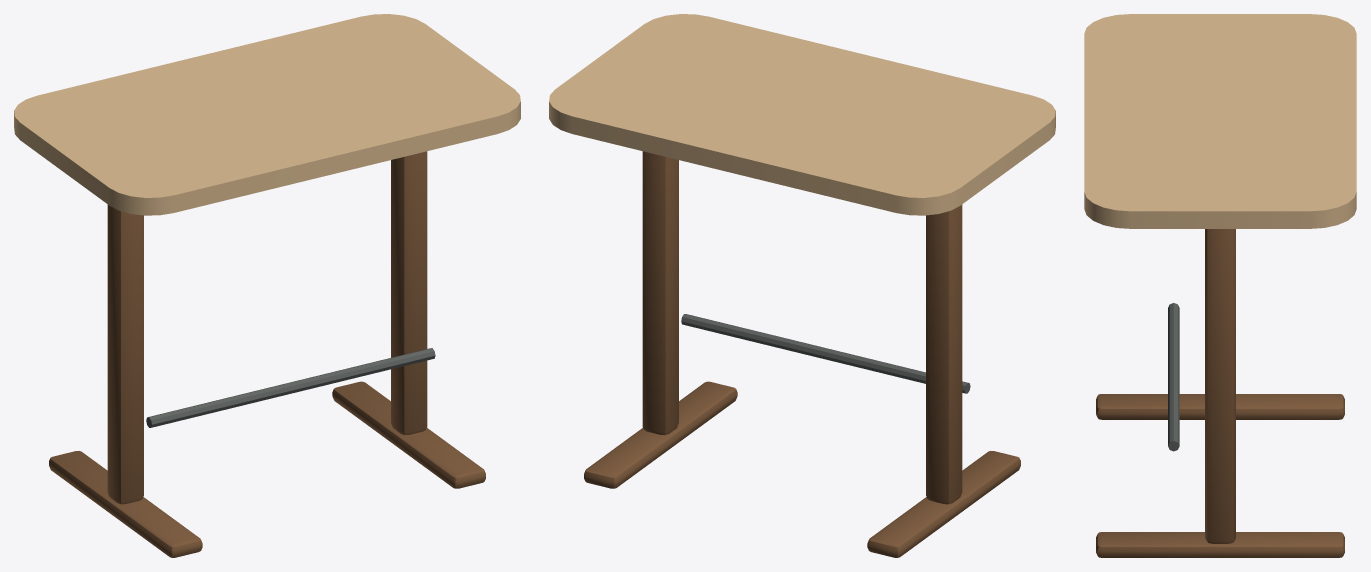
Rendered from high_table.glb.
3 renders of one model, left to right at view 1: azimuth 30°, elevation 25°; view 2: azimuth 150°, elevation 25°; view 3: azimuth 270°, elevation 25°, orthographic.
Parts seen in each view (by area): view 1: FURN-high_table; view 2: FURN-high_table; view 3: FURN-high_table.
Part boxes in pixels (bbox=[...]): FURN-high_table: bbox=[14, 14, 520, 557]; FURN-high_table: bbox=[549, 14, 1055, 557]; FURN-high_table: bbox=[1084, 14, 1356, 557].
Bounding box in the file's own units: 1.2 × 1.05 × 0.7.
